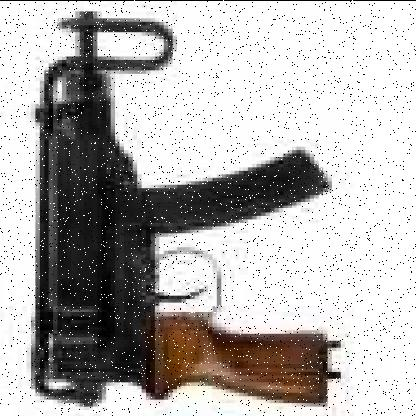rifle: (22, 3, 336, 416)
